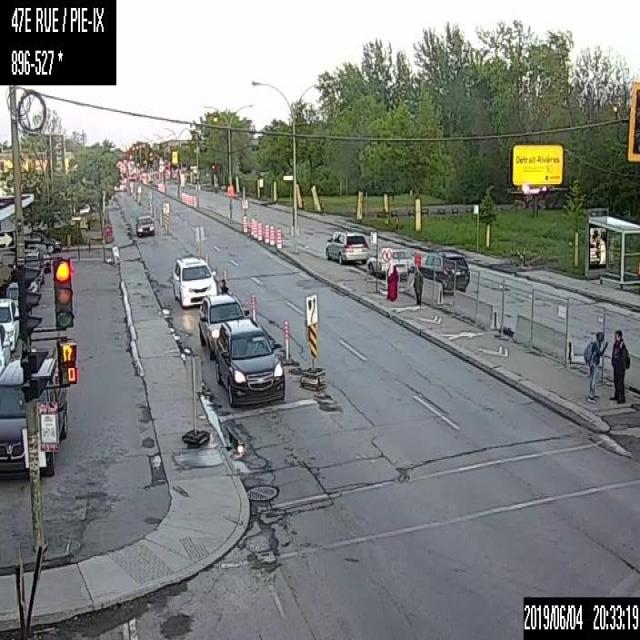construction: (285, 319, 289, 360), (268, 226, 275, 246), (275, 228, 282, 248), (250, 294, 255, 318), (263, 223, 269, 242), (256, 222, 262, 240), (252, 220, 257, 239), (221, 269, 225, 292), (250, 215, 254, 234), (242, 214, 246, 233)
pedestrian: (583, 331, 606, 401), (609, 329, 629, 403), (385, 257, 397, 300), (412, 270, 422, 306)
vehicle: (0, 350, 68, 478), (216, 319, 284, 405), (198, 294, 246, 359), (416, 250, 470, 294), (172, 254, 216, 306), (366, 247, 416, 281), (324, 229, 368, 264), (7, 247, 44, 286), (10, 230, 61, 252), (0, 295, 19, 352), (5, 279, 33, 310), (27, 241, 51, 269), (0, 325, 10, 372), (136, 213, 154, 236)
